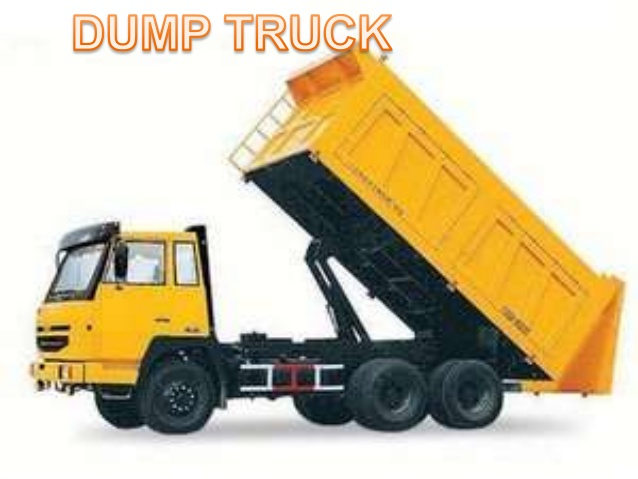truck: (31, 41, 628, 435)
